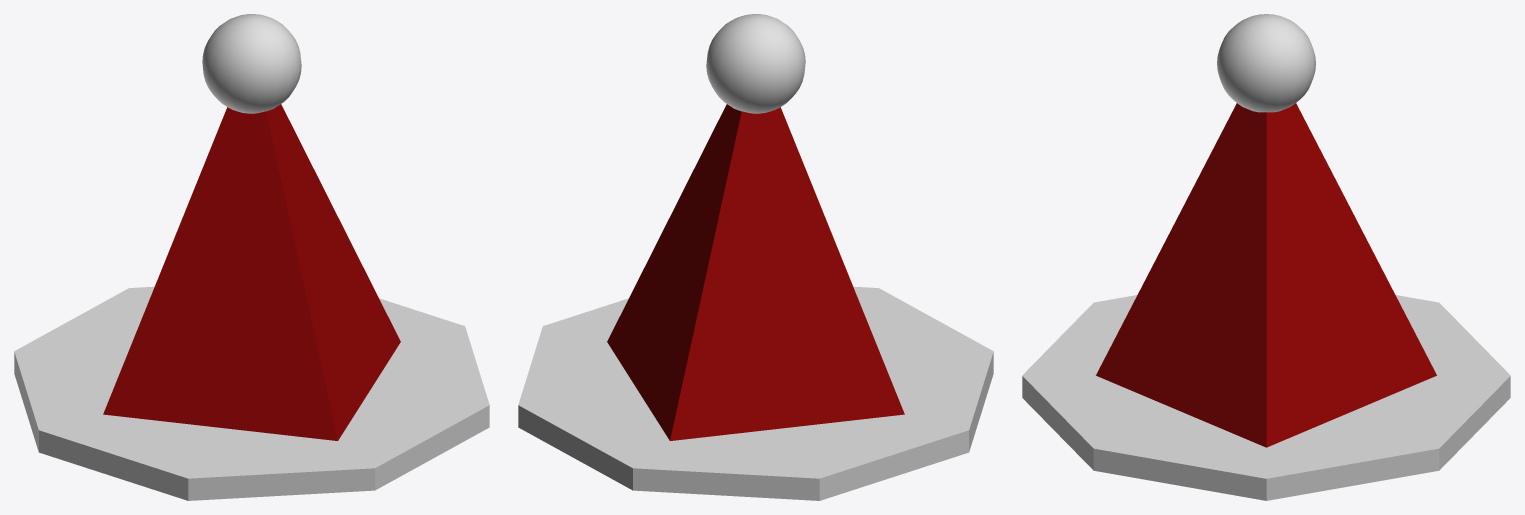
Rendered from Hat1textured.fbx.
3 renders of one model, left to right at view 1: azimuth 30°, elevation 25°; view 2: azimuth 150°, elevation 25°; view 3: azimuth 270°, elevation 25°, orthographic.
Parts seen in each view (by area): view 1: pCylinder2; view 2: pCylinder2; view 3: pCylinder2.
Boxes of the visible parts, bbox=[...] form: pCylinder2: bbox=[14, 14, 489, 500]; pCylinder2: bbox=[518, 14, 993, 500]; pCylinder2: bbox=[1022, 14, 1510, 500].
Size of the model in its own units: 2 by 1.71 by 2.
